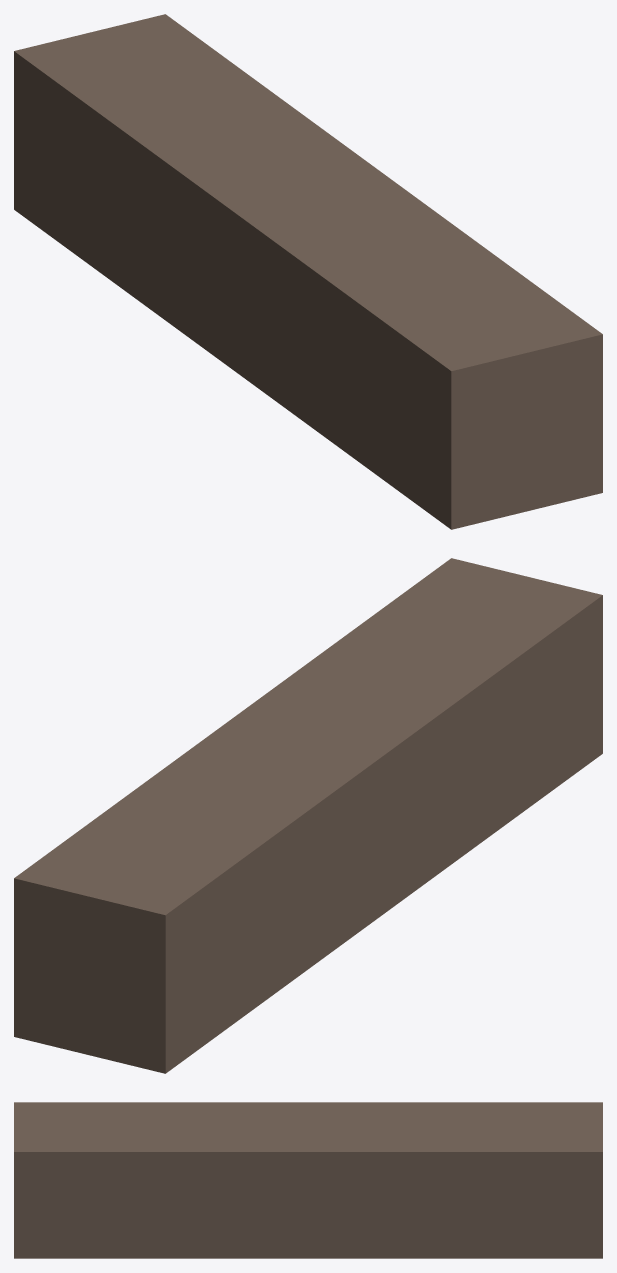
The model's file is block_simple_001.fbx.
3 views of the same model, one above another, from view 1: azimuth 30°, elevation 25°; view 2: azimuth 150°, elevation 25°; view 3: azimuth 270°, elevation 25° (orthographic). The views are drawn at different scales.
Parts seen in each view (by area): view 1: pCube1; view 2: pCube1; view 3: pCube1.
Boxes of the visible parts, bbox=[...] form: pCube1: bbox=[14, 14, 602, 529]; pCube1: bbox=[14, 558, 602, 1073]; pCube1: bbox=[14, 1102, 602, 1258].
Size of the model in its own units: 0.2 by 0.2 by 1.
